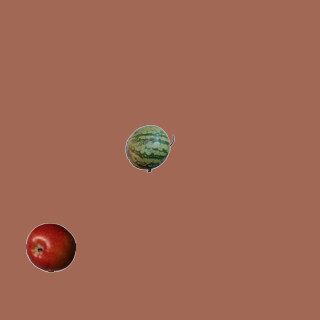Apple Braeburn: (25, 222, 75, 272)
Watermelon: (124, 123, 174, 173)
